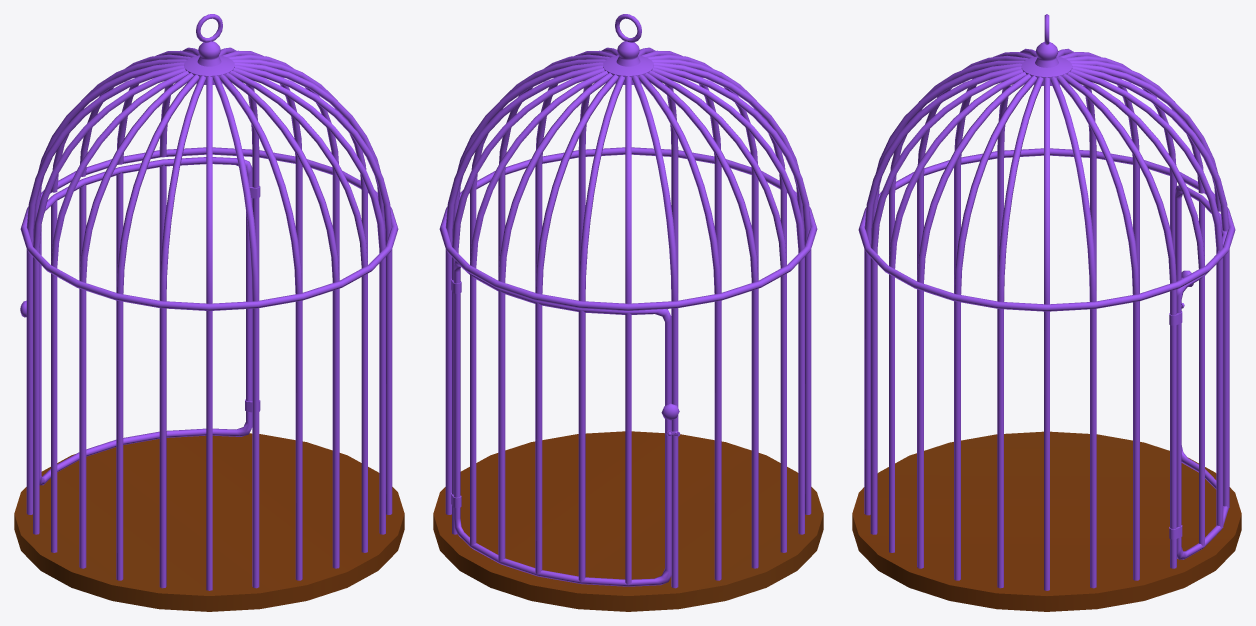
File: Cage.fbx
3 renders of one model, left to right at view 1: azimuth 30°, elevation 25°; view 2: azimuth 150°, elevation 25°; view 3: azimuth 270°, elevation 25°, orthographic.
Parts seen in each view (by area): view 1: Cage2, Cage_Door; view 2: Cage2, Cage_Door; view 3: Cage2, Cage_Door.
Boxes of the visible parts, <box> form: Cage2: <box>14,14,404,611</box>; Cage_Door: <box>20,157,260,485</box>; Cage2: <box>433,14,823,611</box>; Cage_Door: <box>451,260,680,586</box>; Cage2: <box>852,14,1241,611</box>; Cage_Door: <box>1169,185,1229,559</box>.
Bounding box in the file's own units: 42.13 × 61.36 × 42.13.
Materials: 1 (1 with a texture image).
